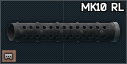AR-15 Alexander Arms MK10 handguard: (0, 0, 127, 64)
